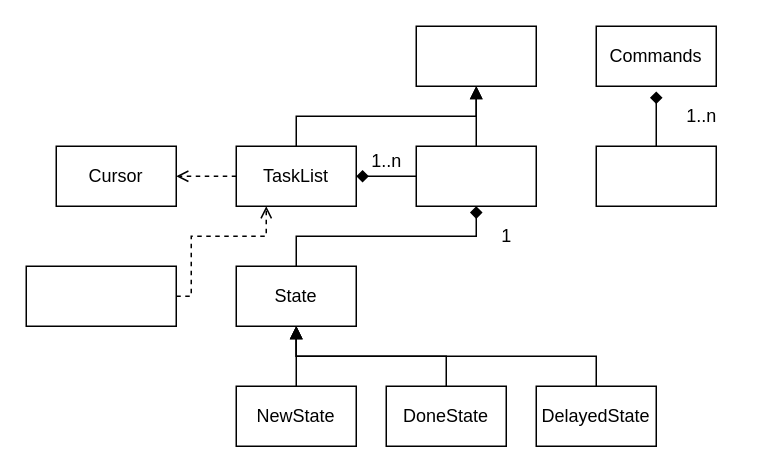
The diagram is 758 pixels wide and 473 high, and some of its shapes have lost their labels. Each missing label, with the centre of its shape:
Command: the point at 655,175
Drawable: the point at 475,55
Task: the point at 475,175
TaskListCursor: the point at 100,295
